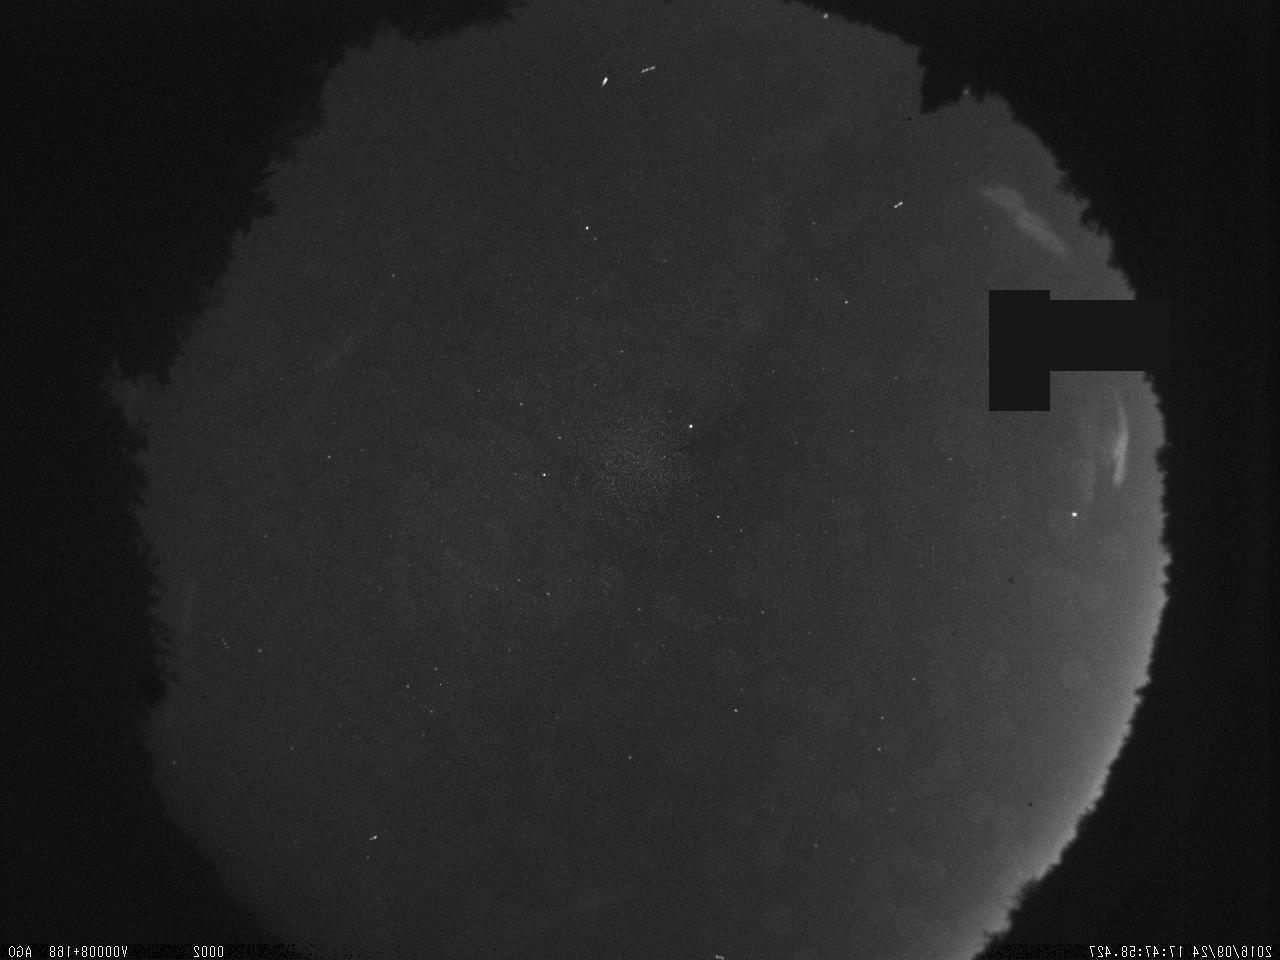meteor: (586, 67, 614, 97)
